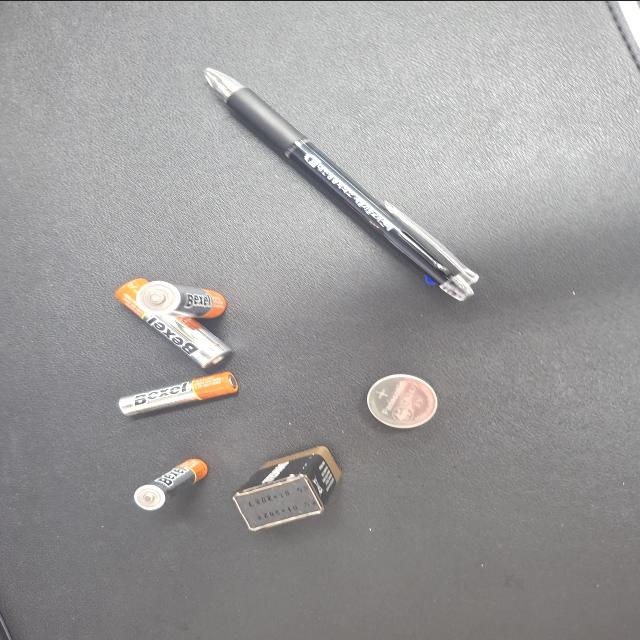9V: (147, 334, 260, 416)
AA: (364, 246, 482, 332), (431, 264, 480, 329)
AAA: (300, 250, 359, 338), (175, 261, 242, 316)
COIN: (284, 436, 356, 488)
